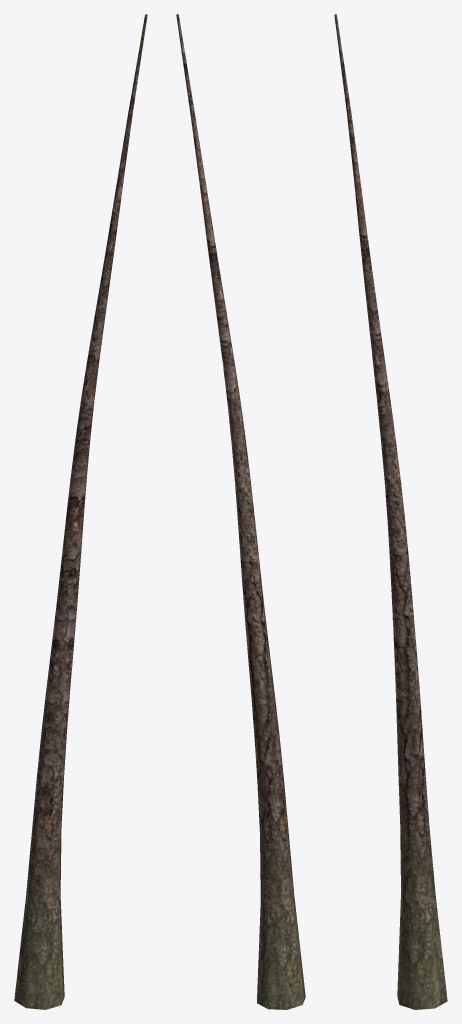
The model's file is spruce2_trunk.glb.
3 renders of one model, left to right at view 1: azimuth 30°, elevation 25°; view 2: azimuth 210°, elevation 25°; view 3: azimuth 270°, elevation 25°, orthographic. The views are drawn at different scales.
Parts seen in each view (by area): view 1: trunk; view 2: trunk; view 3: trunk.
Boxes of the visible parts, x1,y1,x2,y2 form: trunk: [14, 14, 147, 1009]; trunk: [176, 14, 305, 1009]; trunk: [334, 14, 447, 1009].
Bounding box in the file's own units: 0.7553 × 8.33 × 0.8411.
Materials: 1 (1 with a texture image).
